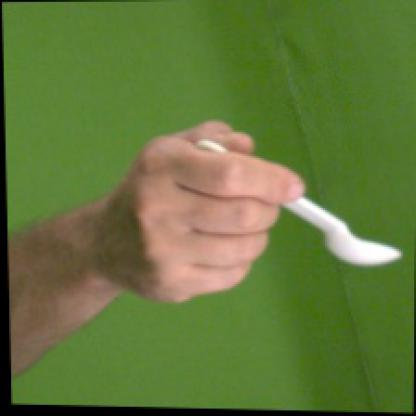Hand: (97, 121, 306, 306)
